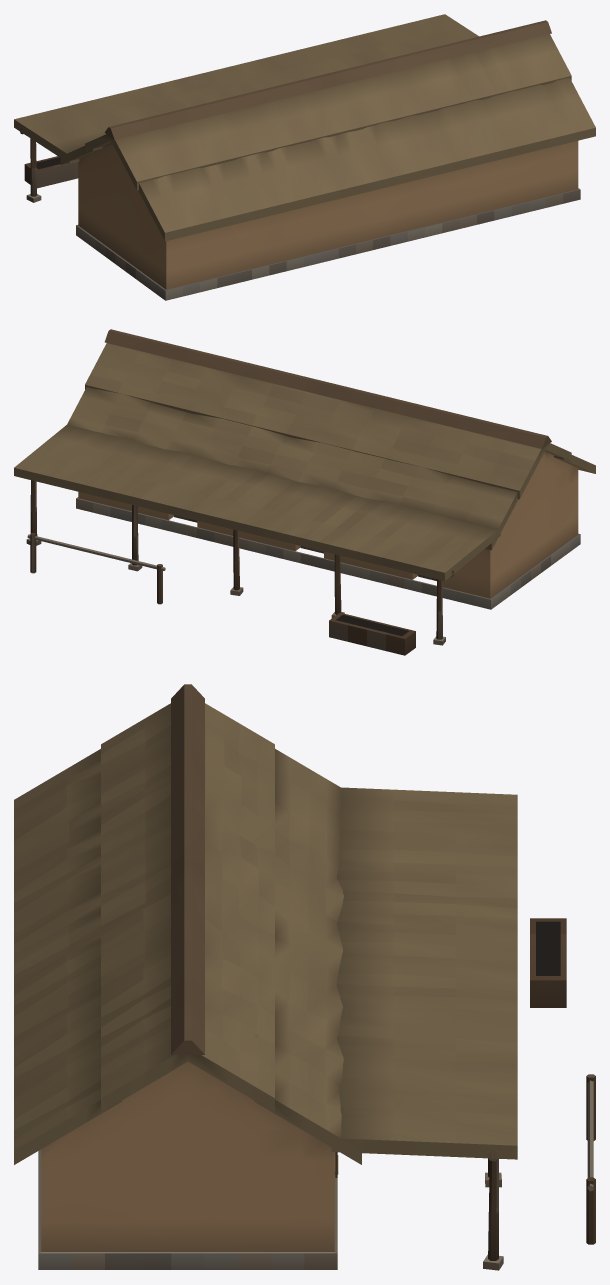
The model's file is casa_posta_b.glb.
The picture shows the model from 3 angles, top to bottom: view 1: azimuth 30°, elevation 25°; view 2: azimuth 150°, elevation 25°; view 3: azimuth 270°, elevation 25°; orthographic projection. The views are drawn at different scales.
Parts seen in each view (by area): view 1: casa_posta_b; view 2: casa_posta_b; view 3: casa_posta_b.
Boxes of the visible parts, x1,y1,x2,y2 form: casa_posta_b: (14,14,595,300); casa_posta_b: (14,329,595,655); casa_posta_b: (14,684,595,1270).
Bounding box in the file's own units: 13.8 × 4.31 × 9.53.
